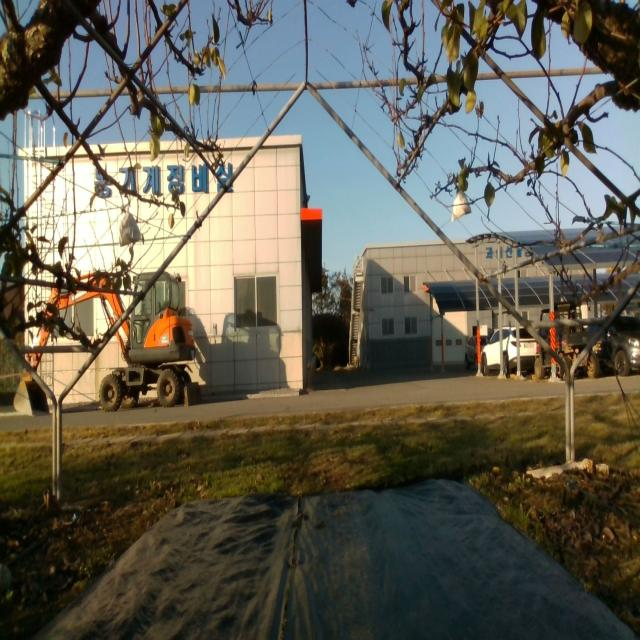pearbags: (119, 208, 142, 247), (450, 192, 470, 224)
